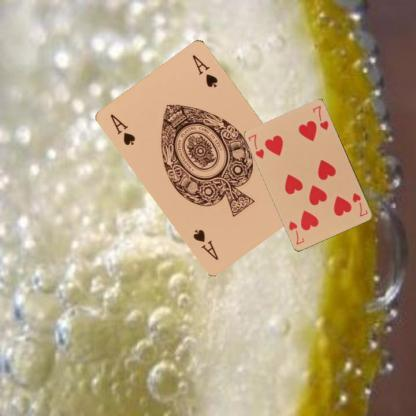7h: (245, 132, 266, 160), (350, 190, 369, 218)
As: (107, 111, 137, 147)
